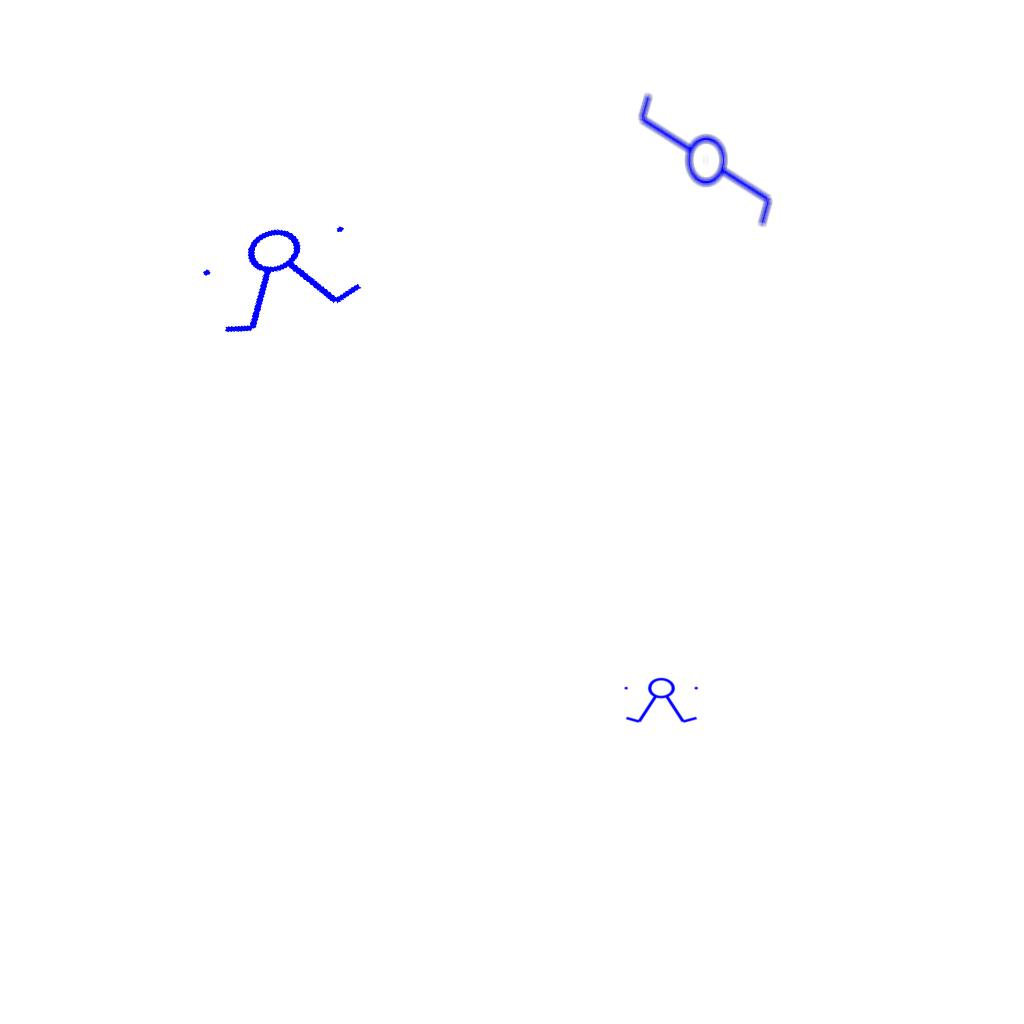Serienschalter: (188, 203, 378, 347), (620, 677, 704, 725)
Wechselschalter: (632, 90, 776, 247)
